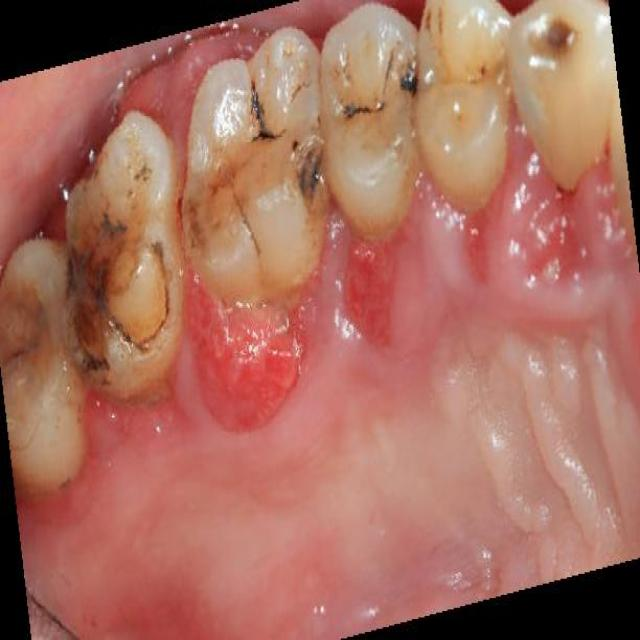caries: (243, 73, 288, 153), (540, 12, 589, 75), (293, 133, 329, 207), (336, 85, 388, 130), (394, 48, 425, 109)
